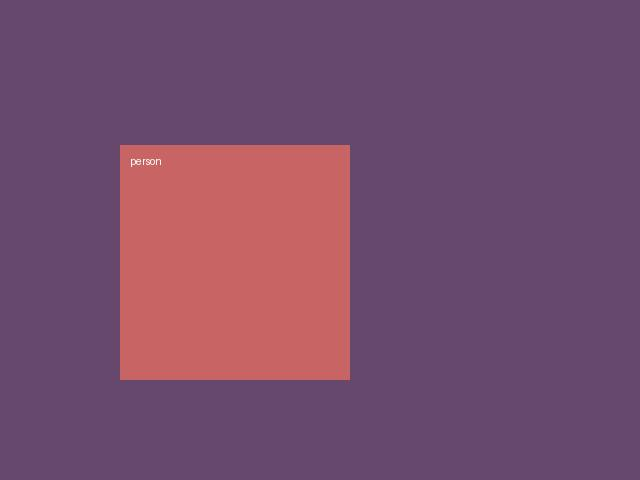person: (120, 145, 349, 379)
